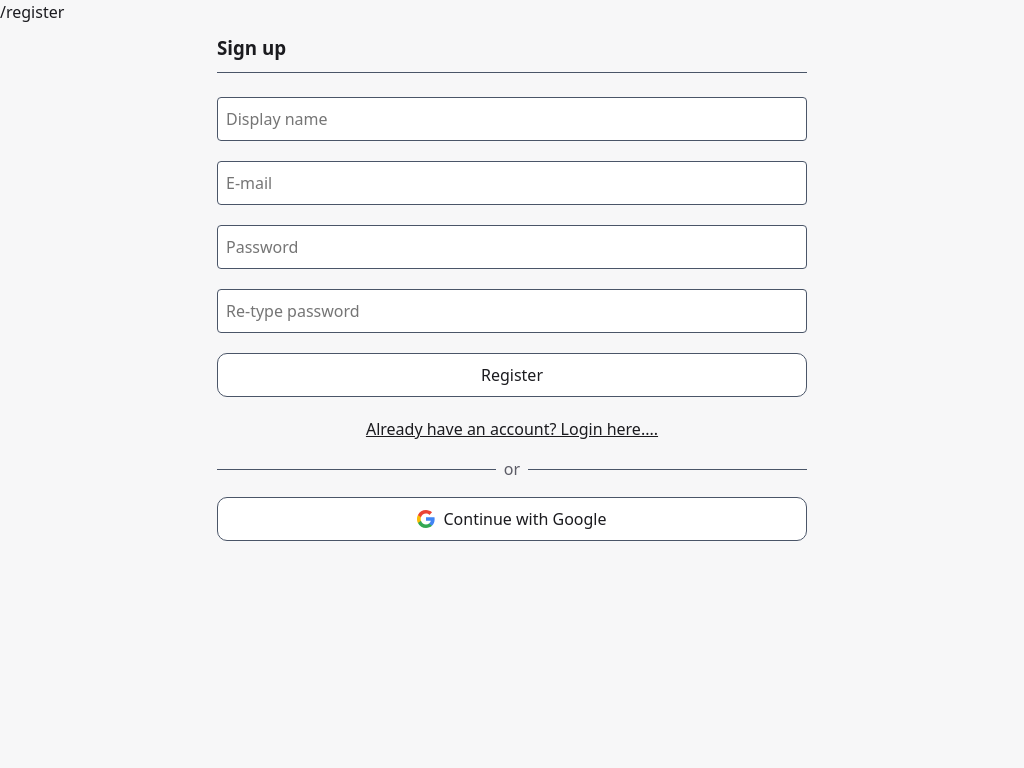
Test: RegisterPage › raises a notice dialog on a network failure
This screenshot has width=1024, height=768.
Type "Ada" into the field labelled "Display name" at point(512, 119), box [217,97,807,141]
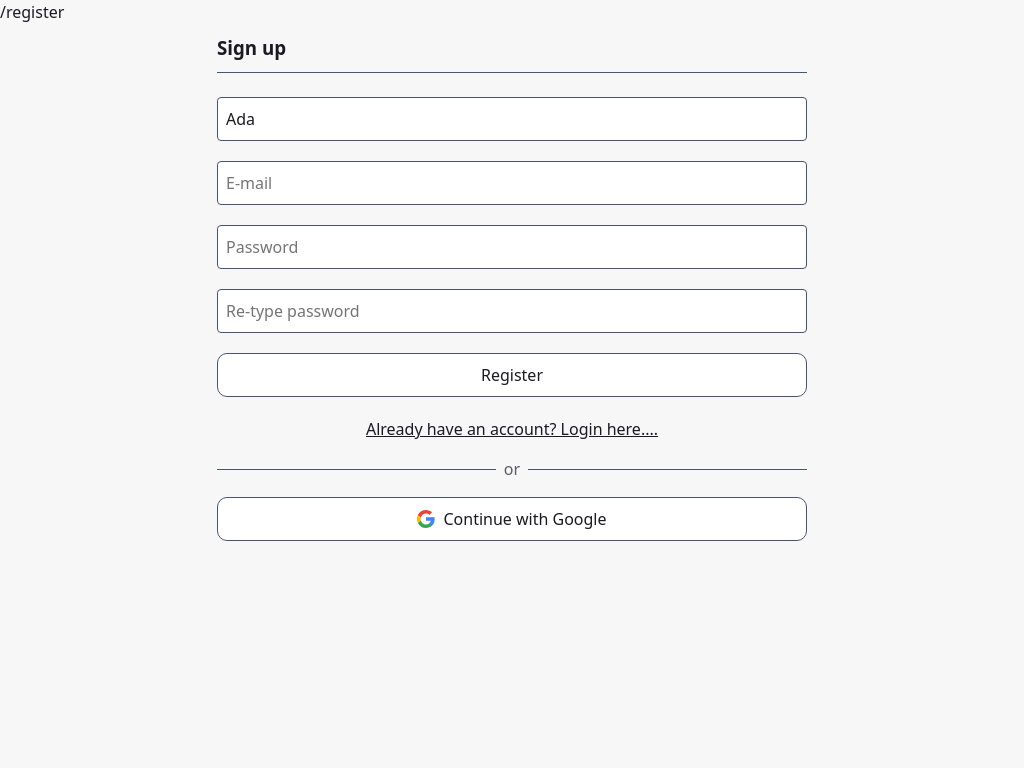
Type "ada@example.com" into the field labelled "E-mail" at point(512, 183), box [217,161,807,205]
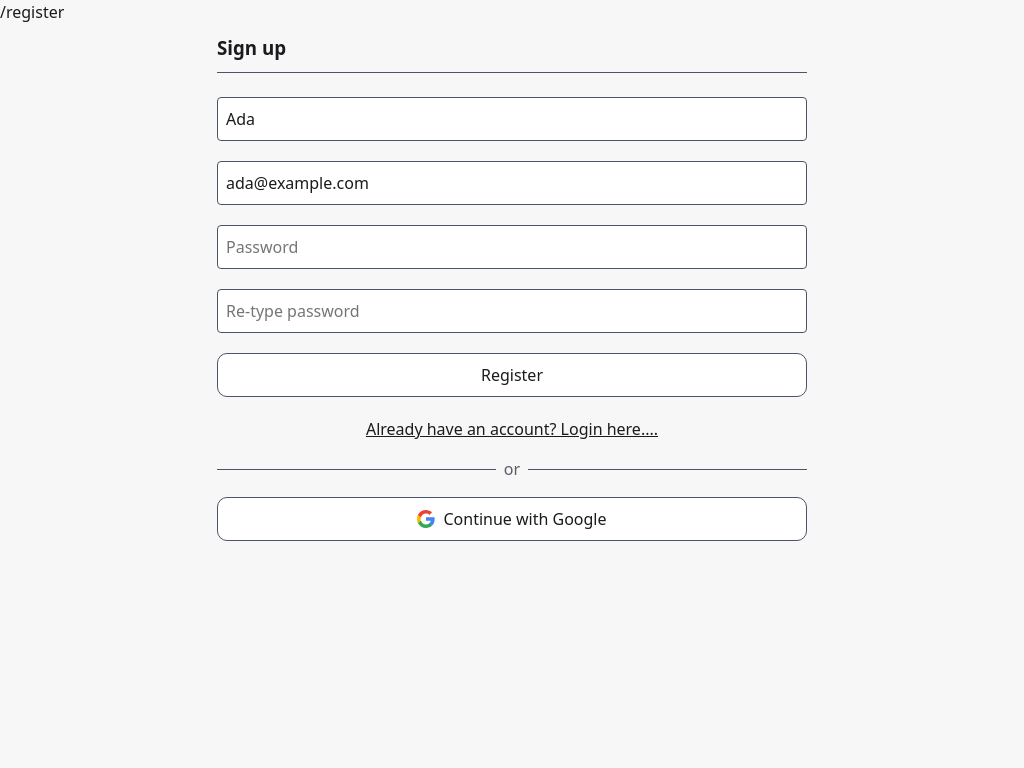
Type "Password1" into the password field labelled "Password" at point(512, 247), box [217,225,807,269]
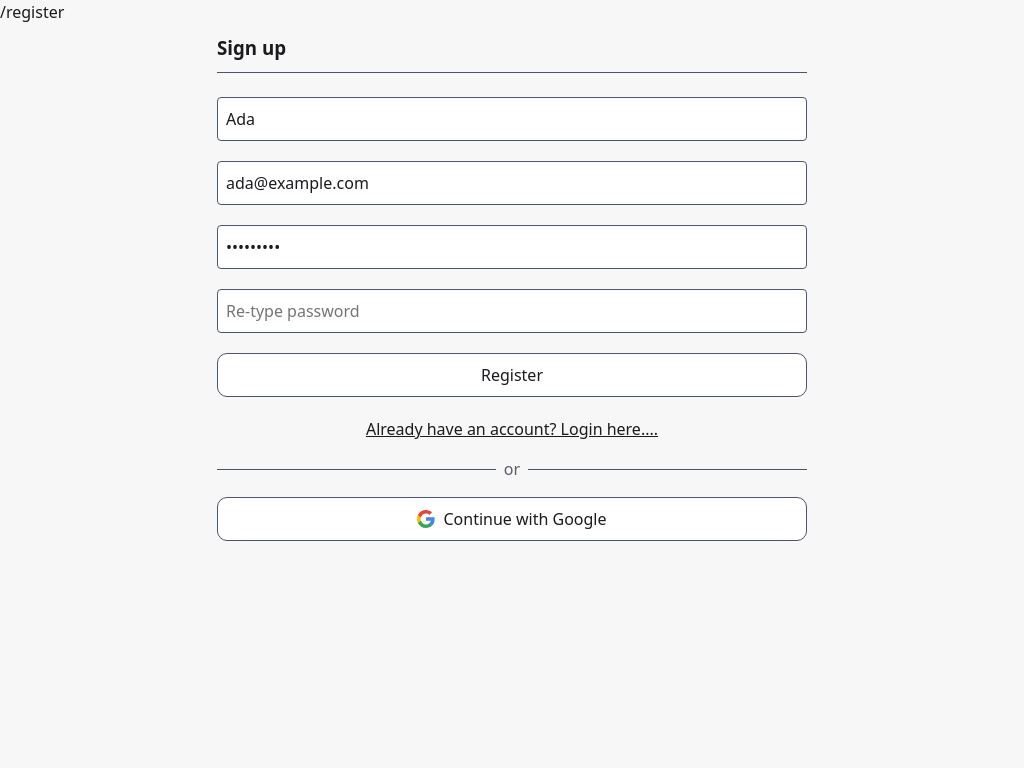
Type "Password1" into the password field labelled "Re-type password" at point(512, 311), box [217,289,807,333]
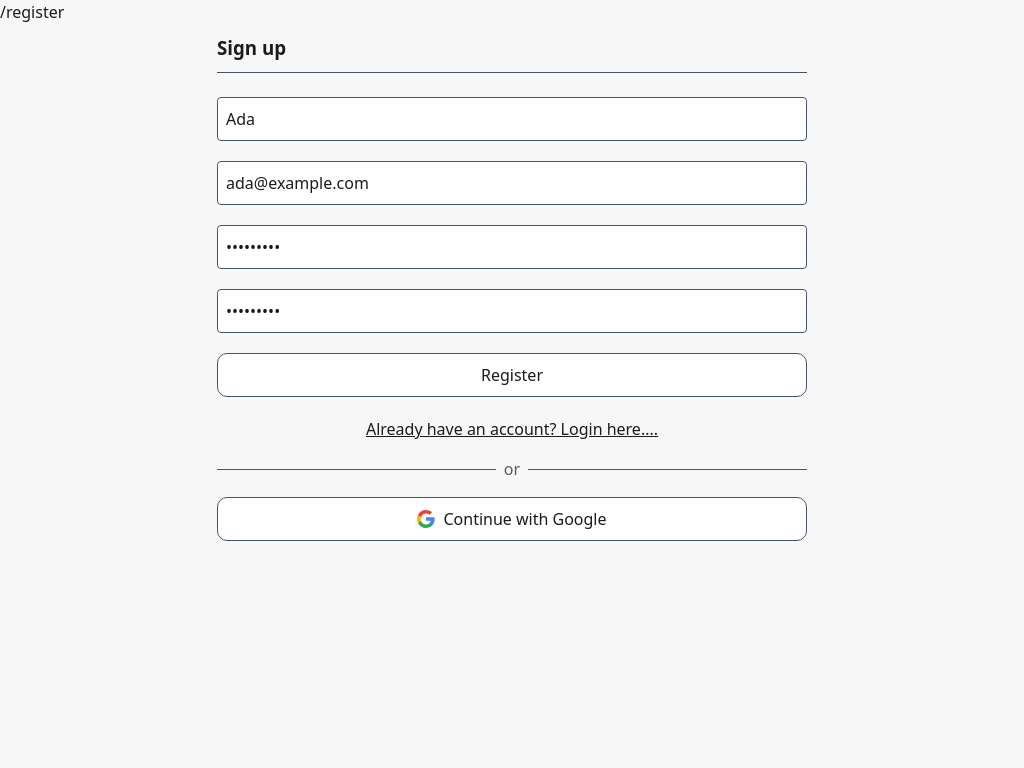
Click the button "Register" at point(512, 375), box [217,353,807,397]
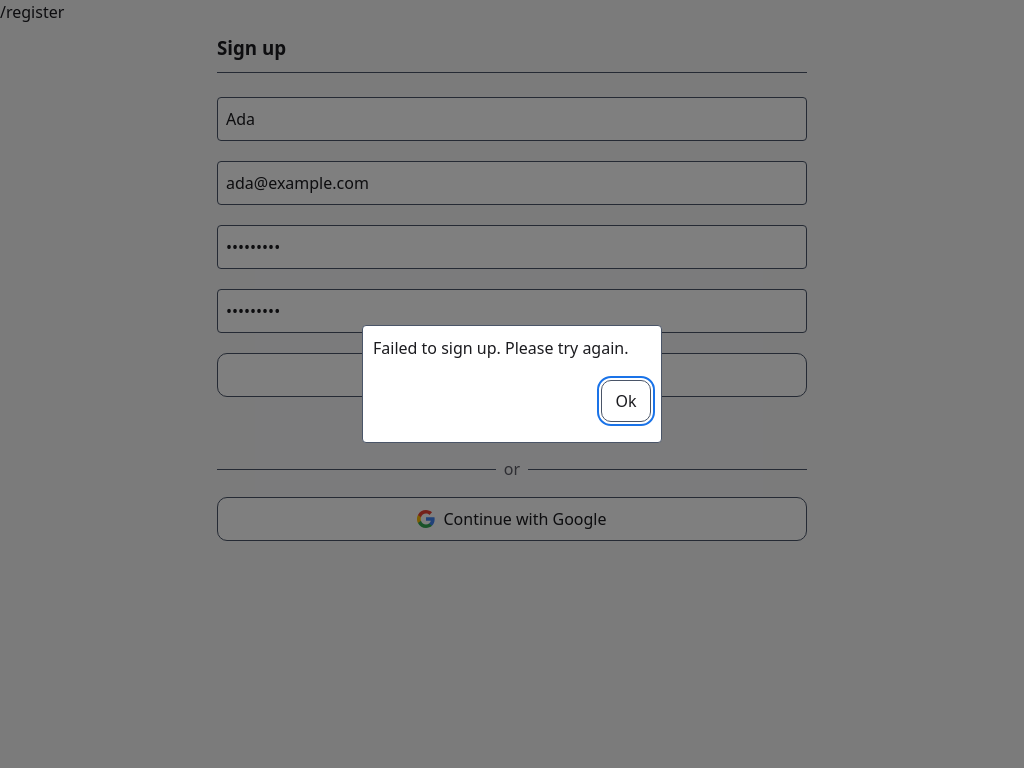
Now the text "Failed to sign up. Please try again." is shown, box [373,336,651,360]
